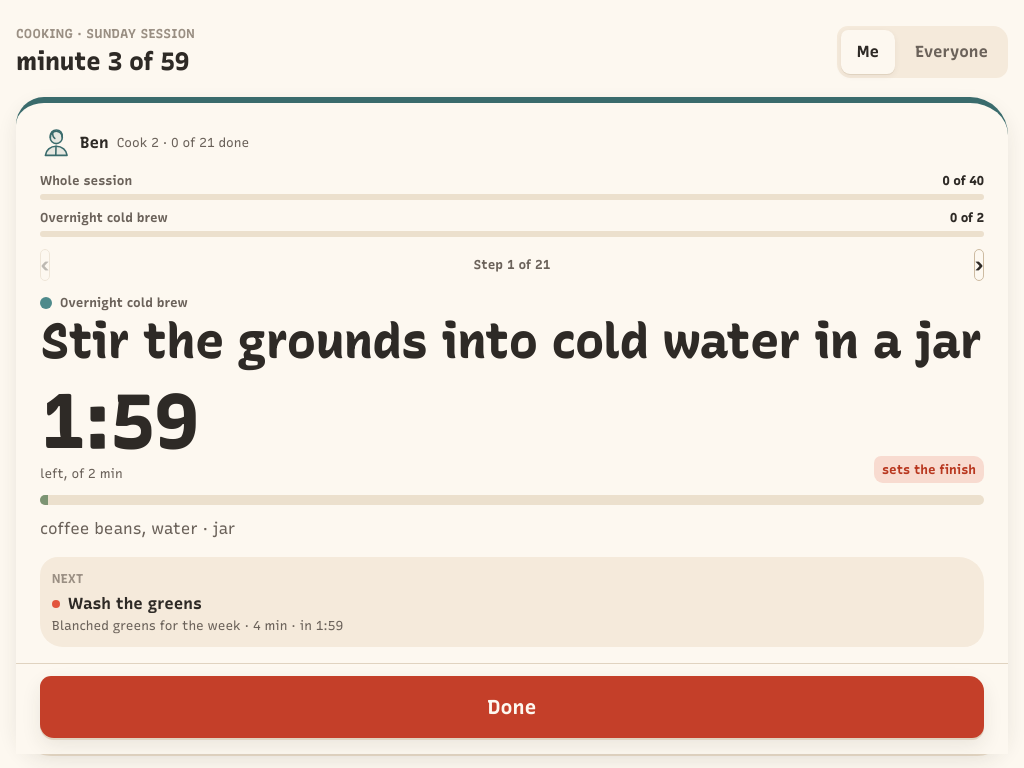
Test case: cooking › shows a cook their own slide, and everyone’s on request
Expected: the button "Done" is shown, x1=40 y1=676 x2=984 y2=738
Click the tab "Everyone" at (952, 52), box x1=899 y1=30 x2=1004 y2=74
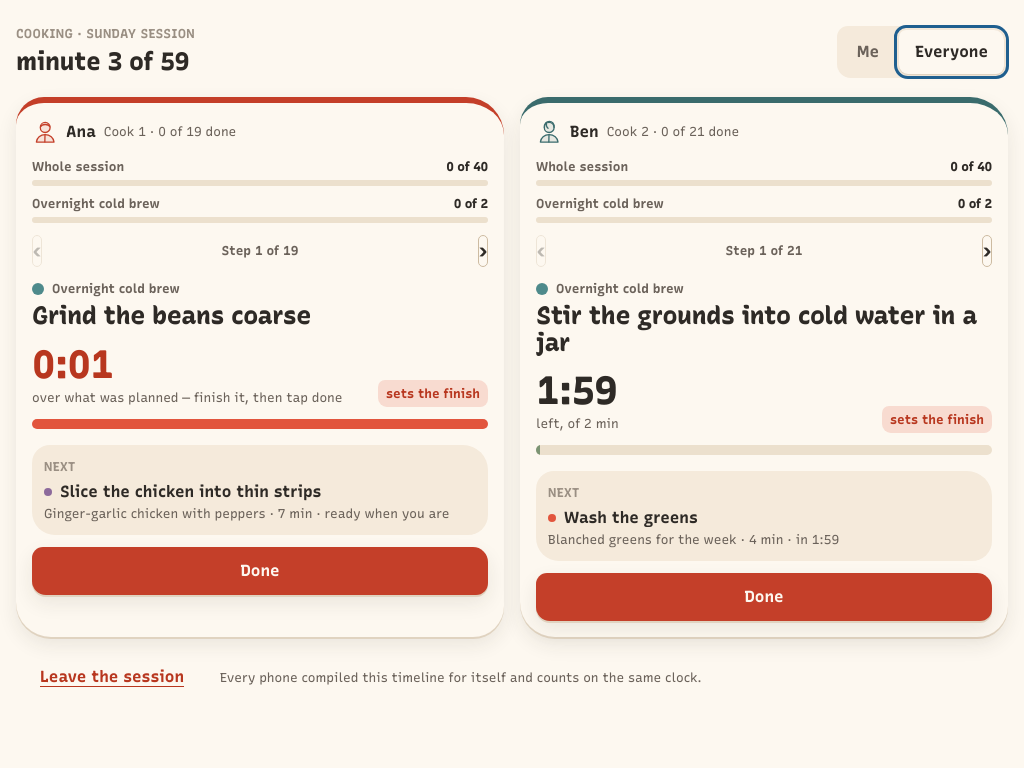
Expected: the element named "Ana's steps" is shown, x1=16 y1=97 x2=504 y2=637
Expected: the element named "Ben's steps" is shown, x1=520 y1=97 x2=1008 y2=637
